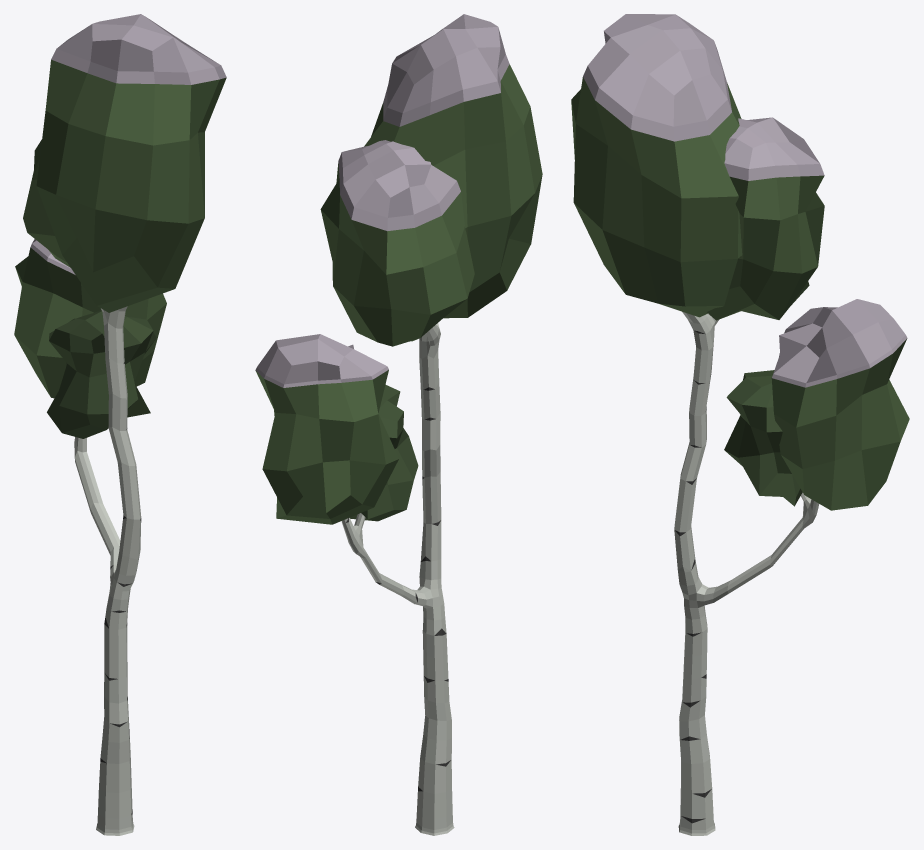
File: BirchTree_Snow_5-transformed.glb
3 views of the same model, side by side, from view 1: azimuth 30°, elevation 25°; view 2: azimuth 150°, elevation 25°; view 3: azimuth 270°, elevation 25° (orthographic). The views are drawn at different scales.
Visible parts, largest first — view 1: BirchTree_Snow_5; view 2: BirchTree_Snow_5; view 3: BirchTree_Snow_5.
Boxes of the visible parts, left/top/right/bottom form: BirchTree_Snow_5: left=14, top=14, right=226, bottom=835; BirchTree_Snow_5: left=255, top=14, right=542, bottom=835; BirchTree_Snow_5: left=571, top=14, right=909, bottom=835.
Bounding box in the file's own units: 1.19 × 5.06 × 1.93.
Materials: 1 (1 with a texture image).
